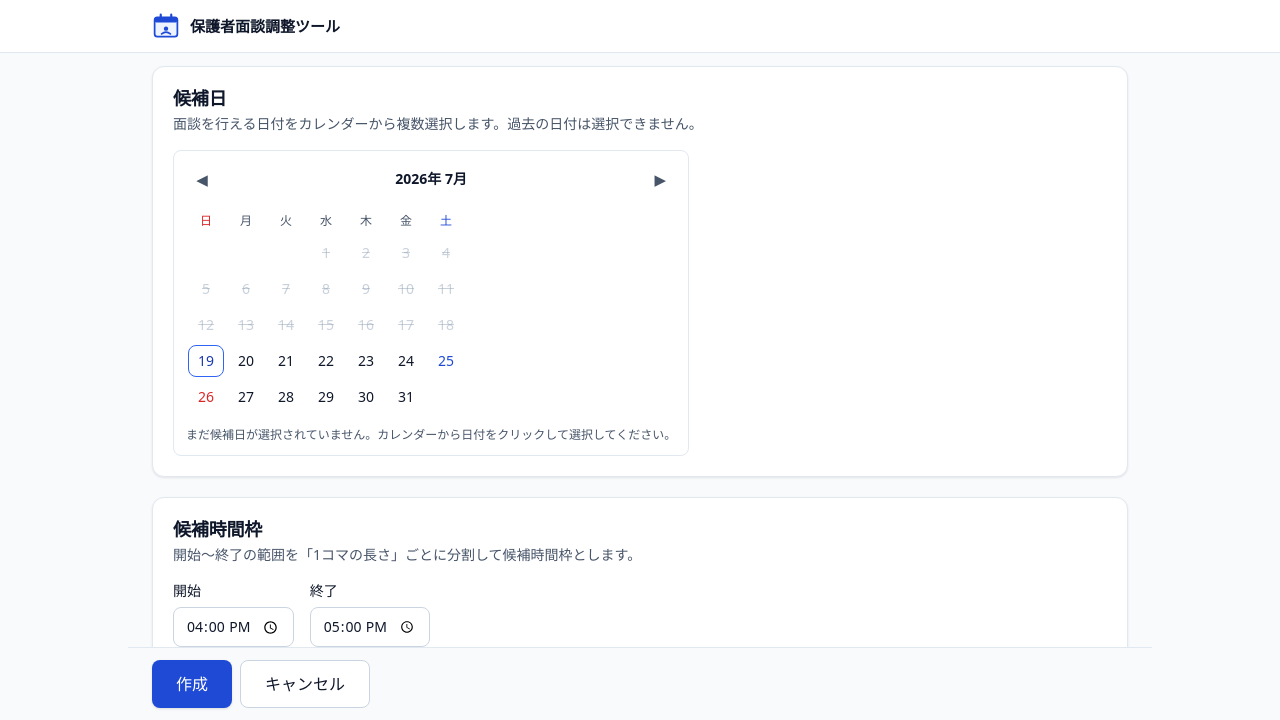
Test: ProjectNewPage › カレンダーから日付をクリックで選択／解除できる
(page scrolled)
Expected: the element with test id "candidate-dates-calendar" is shown, [173, 150, 689, 456]
Click the button with test id "^calendar-day-".
click(206, 361)  # box [188, 345, 224, 377]
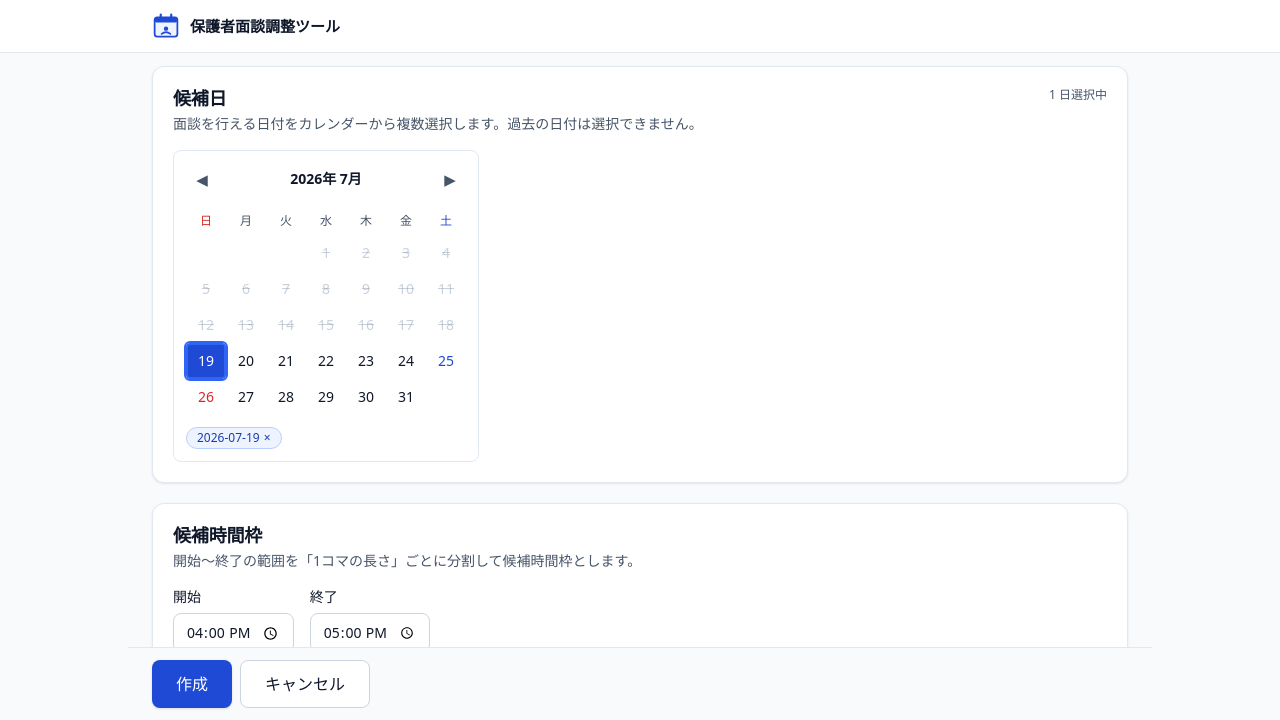
Note: もう一度クリックで解除
Click the button with test id "^calendar-day-".
click(206, 361)  # box [188, 345, 224, 377]
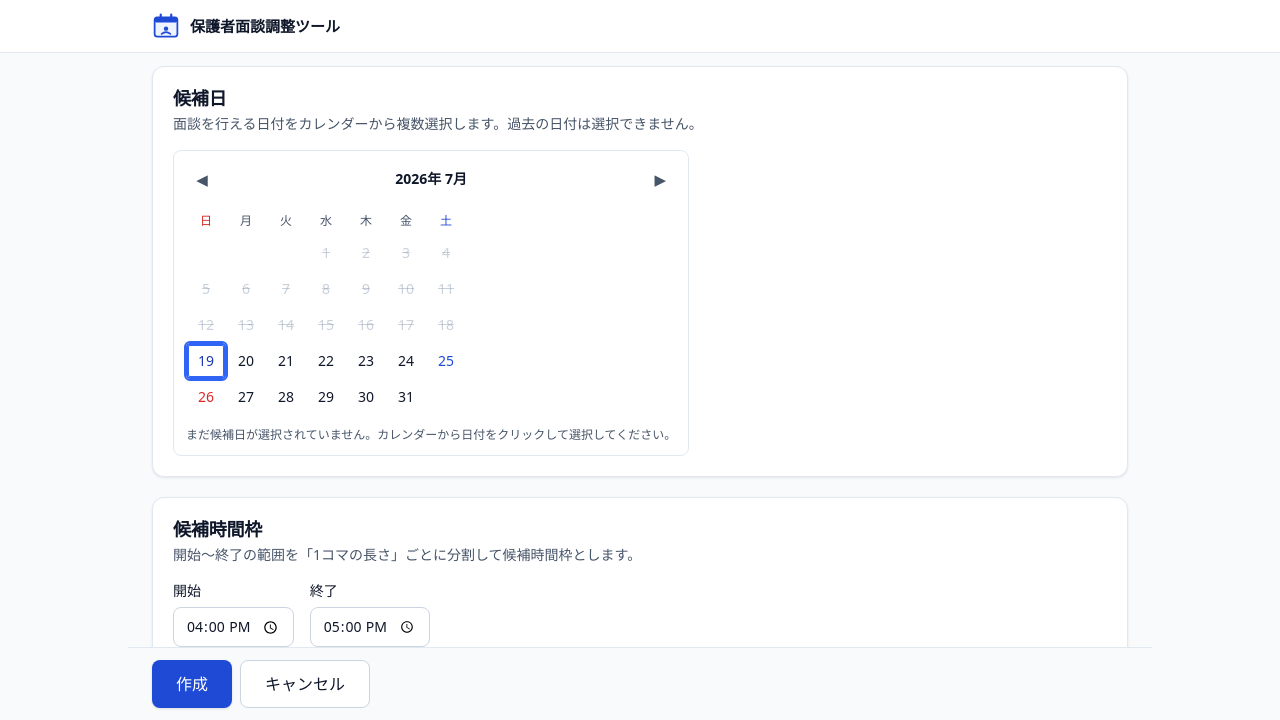
Result: the element with test id "selected-dates-list" is gone
